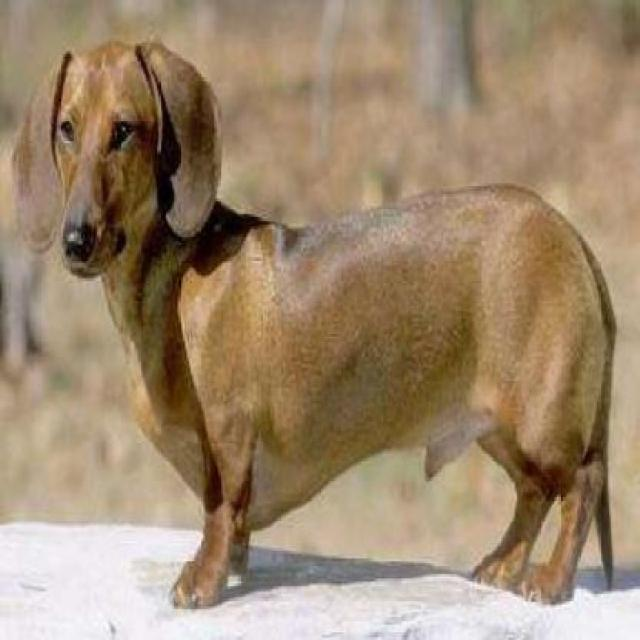Dog: (9, 31, 622, 614)
